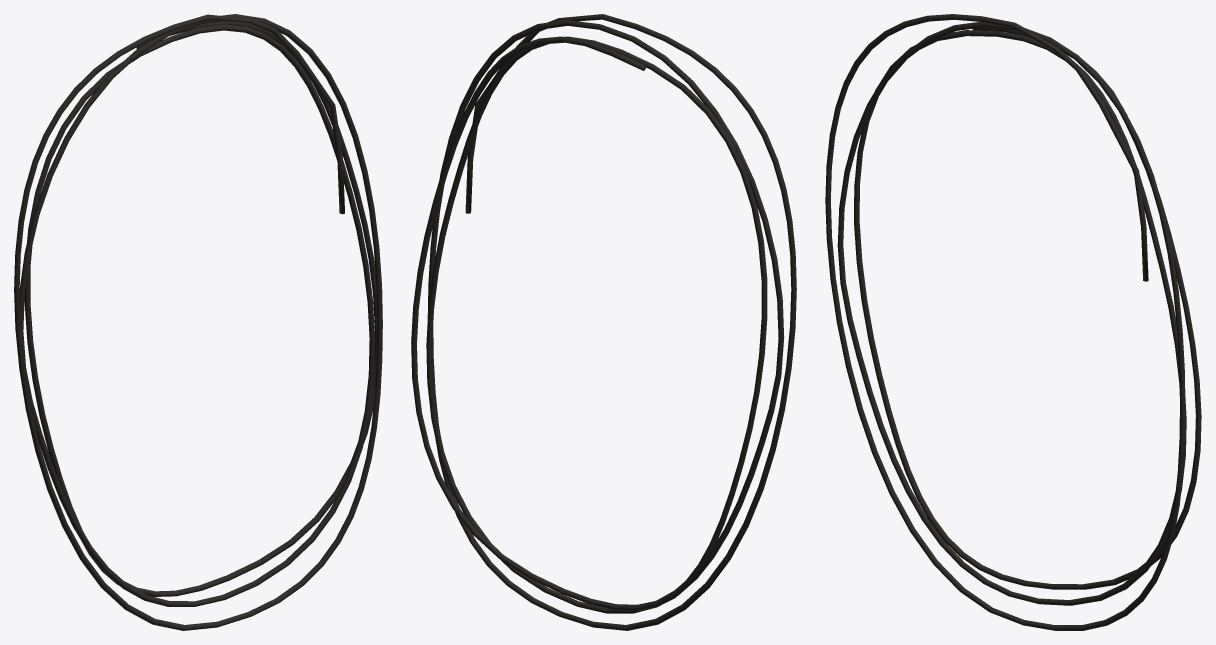
Rendered from cable.fbx.
3 views of the same model, side by side, from view 1: azimuth 30°, elevation 25°; view 2: azimuth 150°, elevation 25°; view 3: azimuth 330°, elevation 25° (orthographic). The views are drawn at different scales.
Parts seen in each view (by area): view 1: cable; view 2: cable; view 3: cable.
Boxes of the visible parts, x1,y1,x2,y2 form: cable: (14, 14, 382, 630); cable: (411, 14, 796, 630); cable: (825, 14, 1201, 630).
Bounding box in the file's own units: 1.3 × 2.04 × 0.1034.
